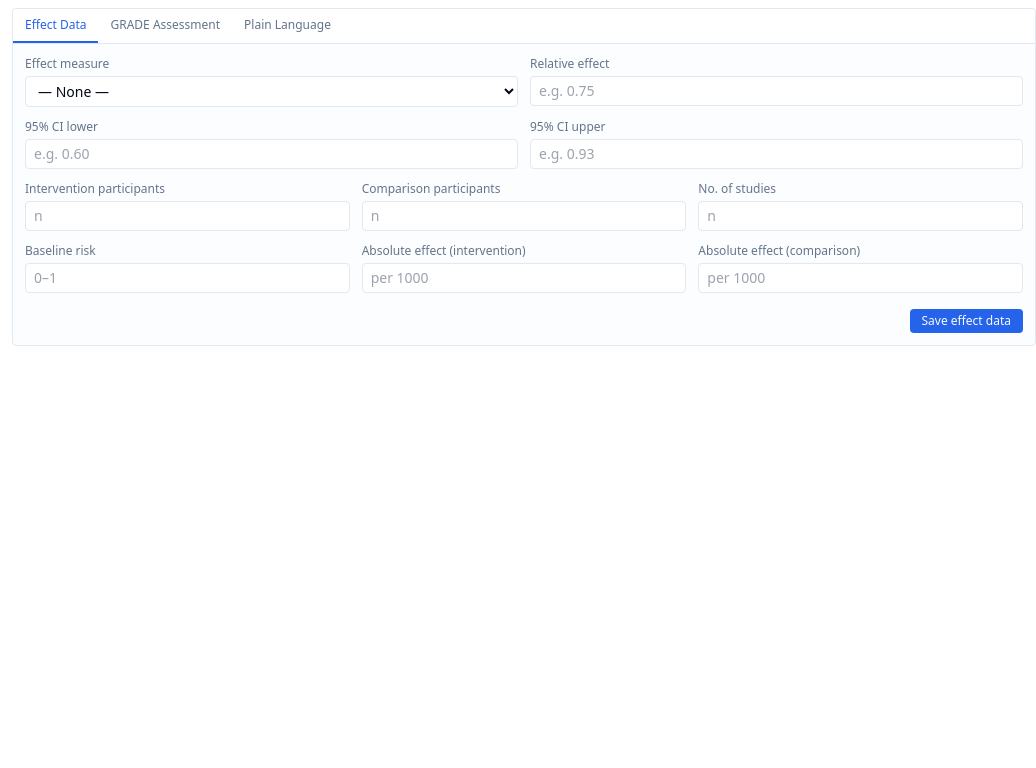
Test case: GradeAssessmentPanel › switches to GRADE Assessment tab
The width and height of the screenshot is (1036, 768).
Click the button "GRADE Assessment".
click(165, 26)  # box [98, 9, 232, 43]
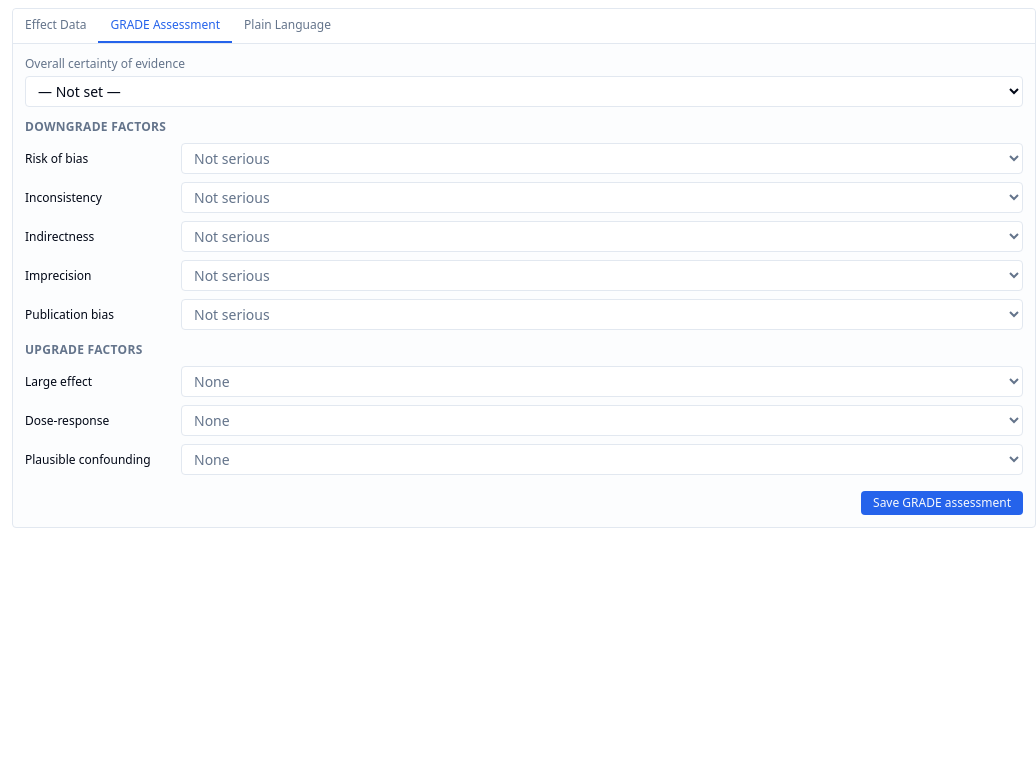
Check: the dropdown named "Overall certainty of evidence" is shown, box [25, 76, 1023, 107]
Check: the dropdown named "Risk of bias" is shown, box [181, 143, 1023, 174]
Check: the dropdown named "Inconsistency" is shown, box [181, 182, 1023, 213]
